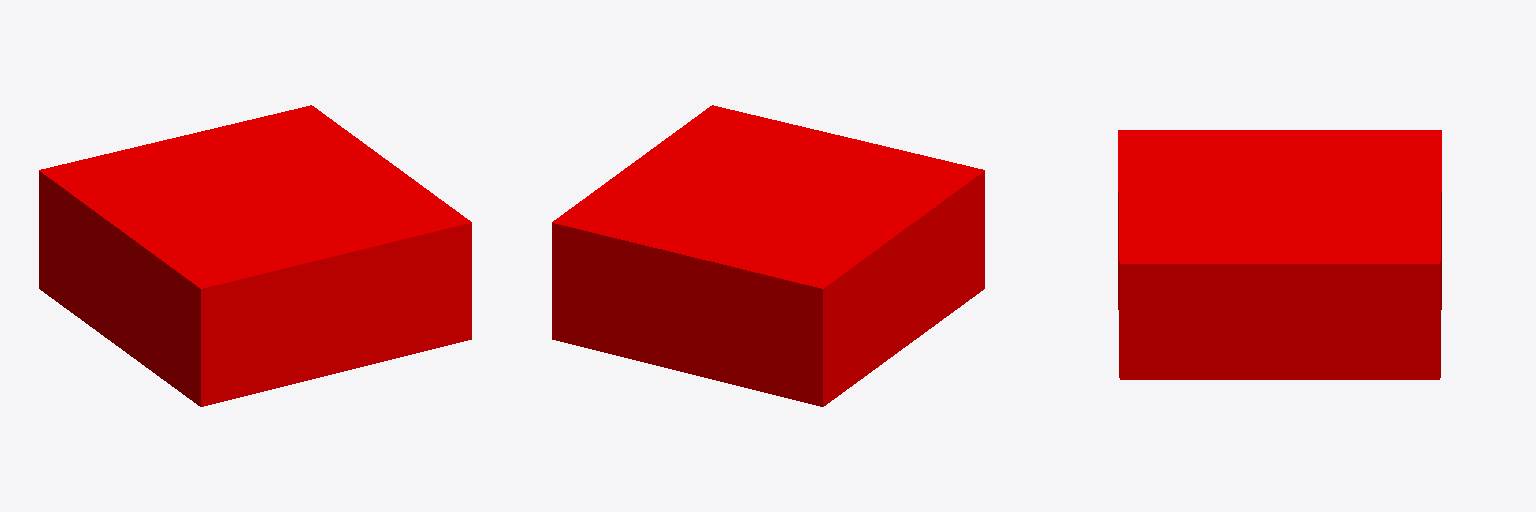
File: FirstWorld.obj
3 views of the same model, side by side, from view 1: azimuth 30°, elevation 25°; view 2: azimuth 150°, elevation 25°; view 3: azimuth 270°, elevation 25° (orthographic).
Parts seen in each view (by area): view 1: pCube32; view 2: pCube32; view 3: pCube32.
Boxes of the visible parts, x1,y1,x2,y2 form: pCube32: [39, 105, 471, 406]; pCube32: [552, 105, 984, 406]; pCube32: [1118, 130, 1441, 379].
Bounding box in the file's own units: 103 × 43.14 × 106.